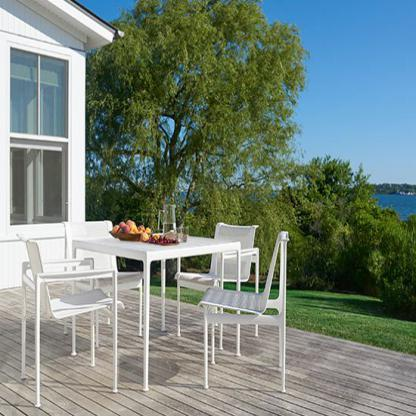chair: (8, 214, 125, 406), (194, 222, 300, 385), (54, 212, 149, 333), (172, 209, 262, 334)
table: (66, 230, 245, 389)
